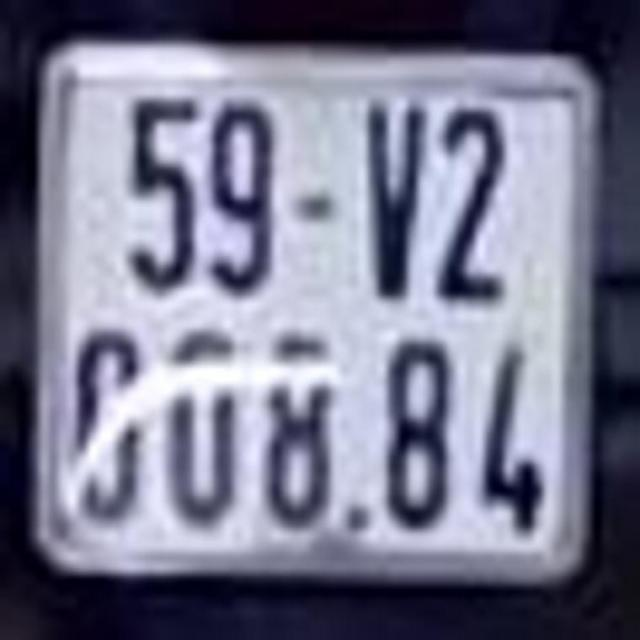0: (168, 324, 236, 530), (70, 324, 140, 518)
2: (439, 106, 513, 308)
4: (485, 335, 547, 536)
5: (127, 88, 202, 305)
8: (264, 329, 334, 529), (387, 338, 452, 529)
9: (206, 92, 276, 302)
V: (358, 96, 429, 307)
